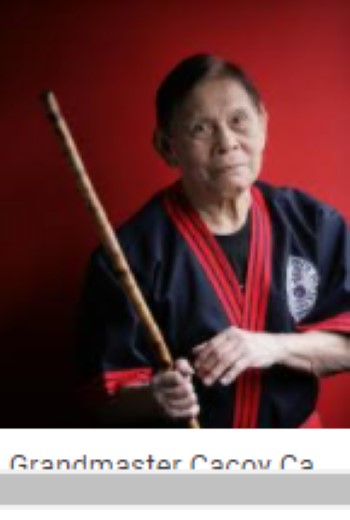baston_e: (40, 106, 186, 352)
baston_v: (30, 72, 67, 117), (181, 411, 207, 434)
